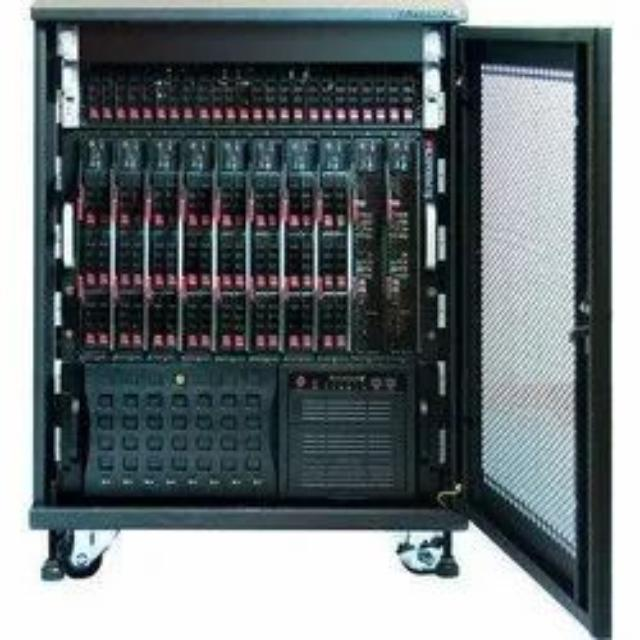Server: (34, 0, 470, 538)
